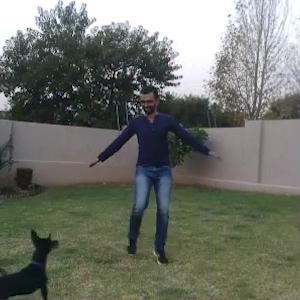land: (83, 73, 228, 268)
